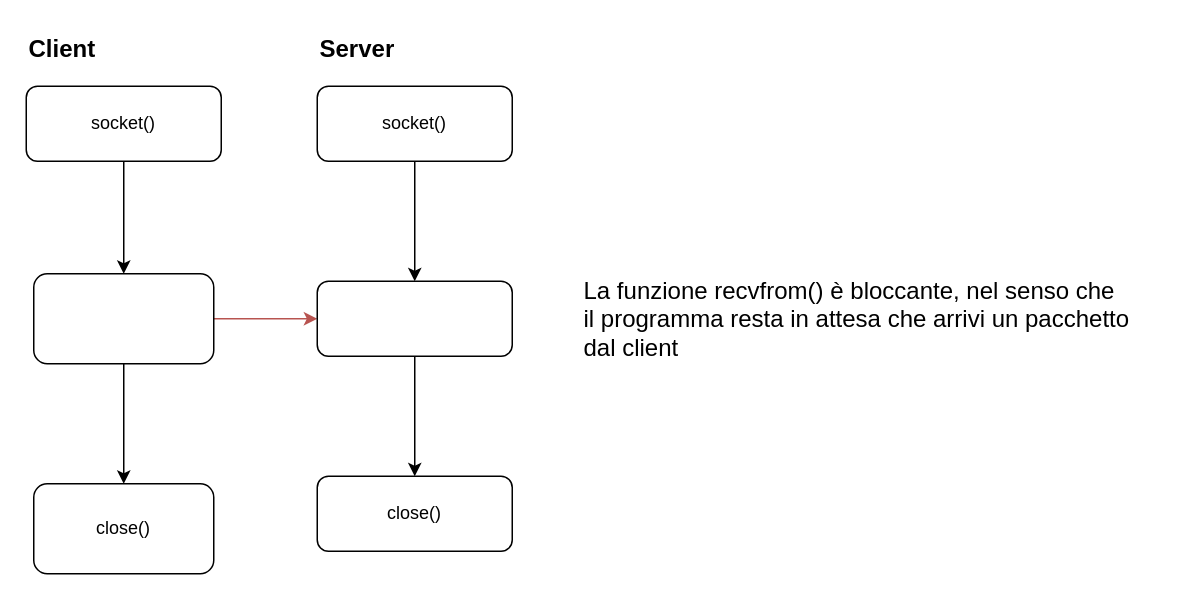
This 1193x600 diagram has some shape labels left out. The shapes that lost their labels are listed below. From the top down, each one's box as (x1, y1, x2, y2) in pixels, then its label:
(32, 272, 214, 364): sendto()
(316, 280, 512, 356): recvfrom()
